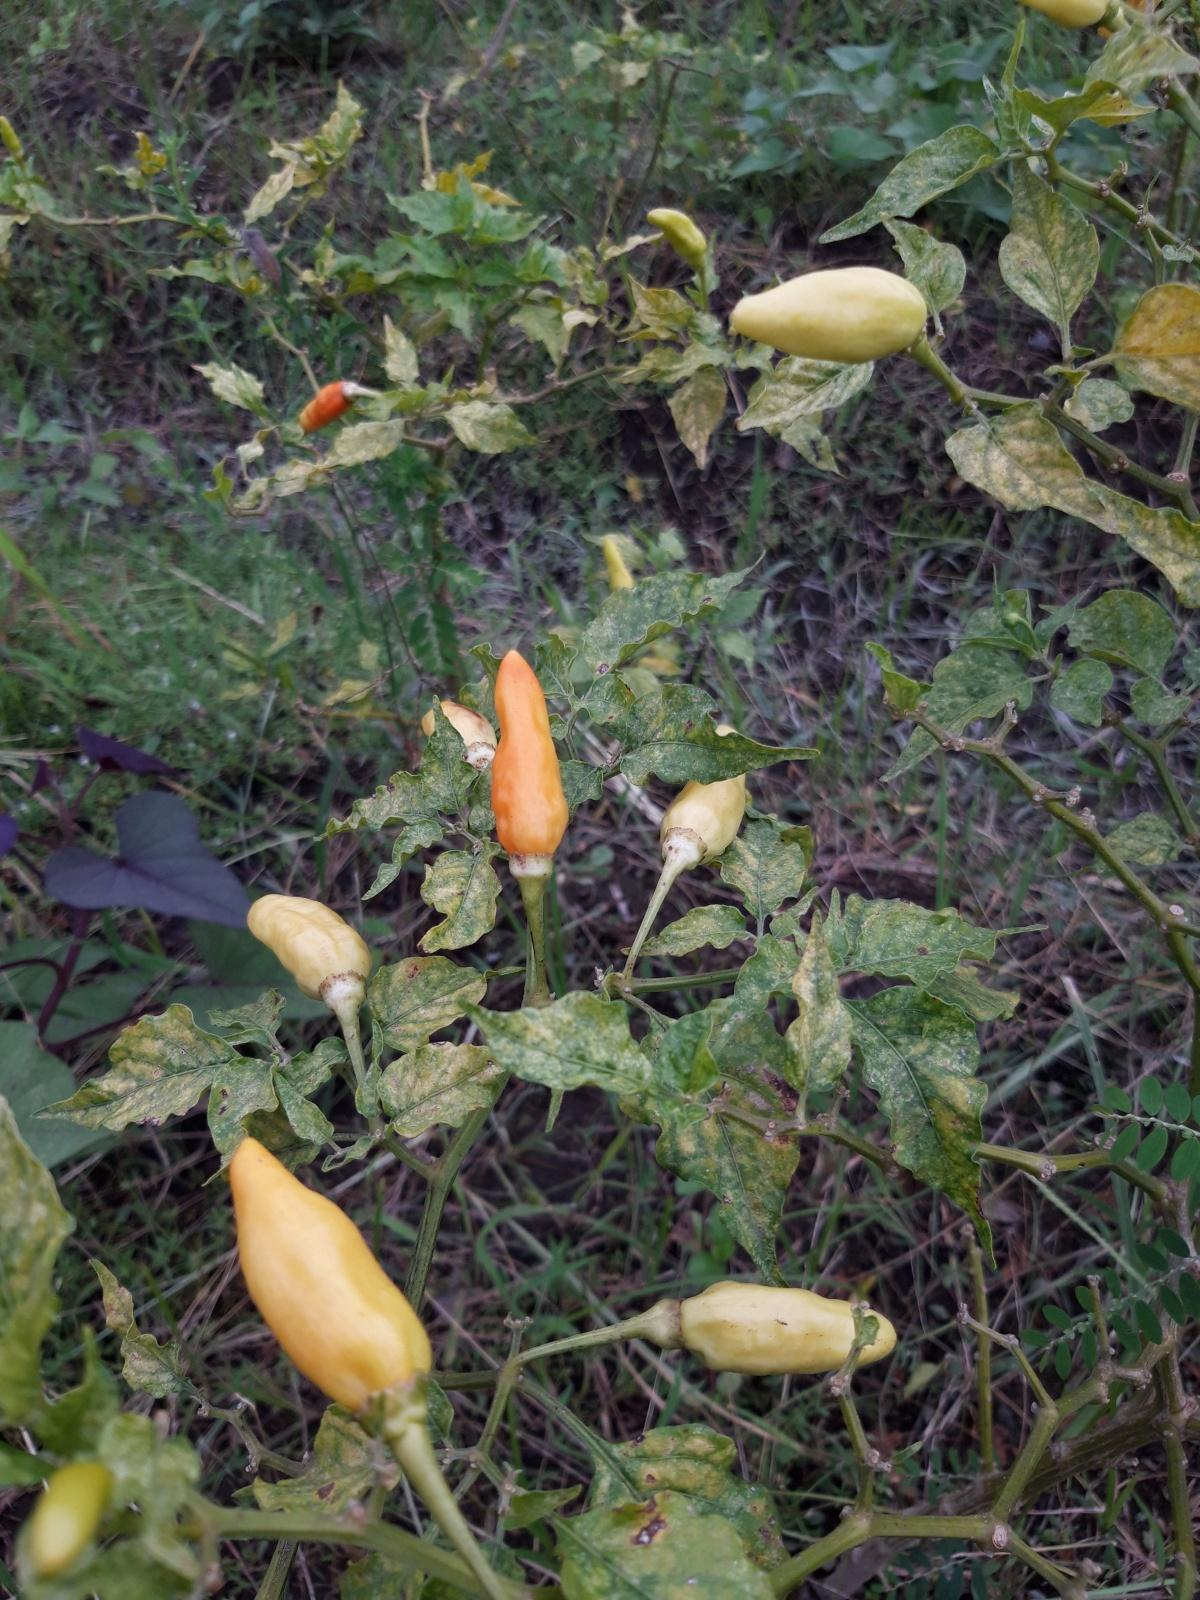cabai_normal: (229, 1136, 434, 1411), (682, 1279, 899, 1377), (732, 267, 926, 362), (490, 648, 570, 863), (247, 891, 372, 1002), (661, 727, 746, 866), (648, 208, 705, 275), (300, 379, 358, 432)
lalat_buah: (421, 699, 498, 770)
